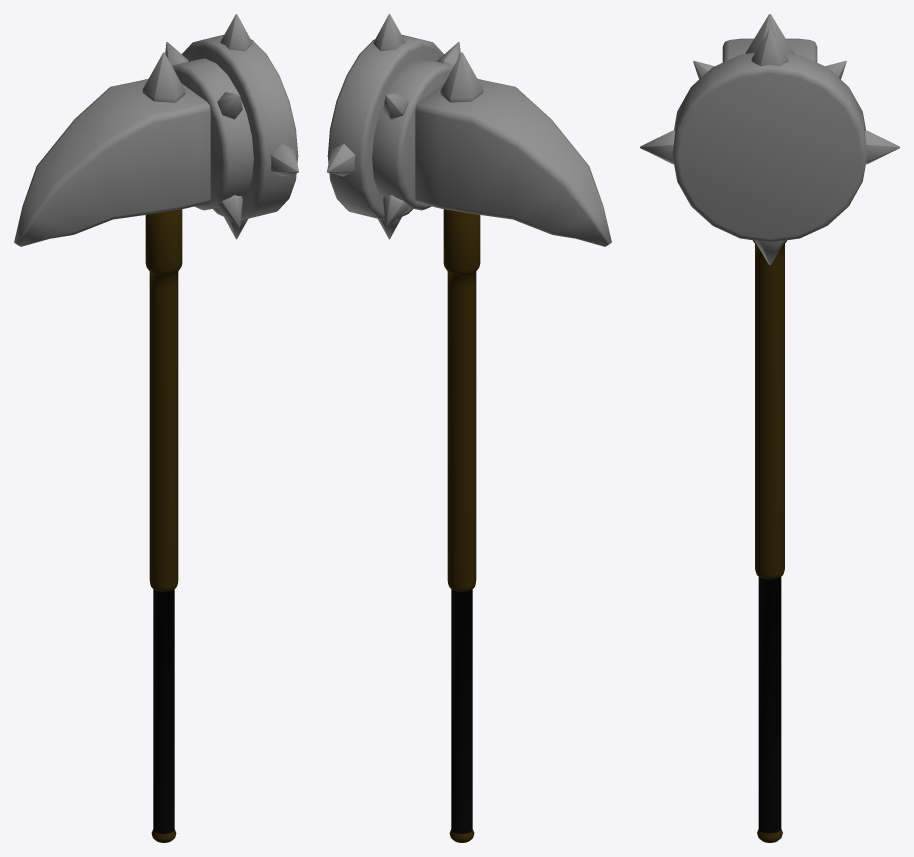
Rendered from TwoHand_Hammer_Iron.obj.
3 renders of one model, left to right at view 1: azimuth 30°, elevation 25°; view 2: azimuth 150°, elevation 25°; view 3: azimuth 270°, elevation 25°, orthographic. The views are drawn at different scales.
Parts seen in each view (by area): view 1: TwoHand_Hammer_Iron_Cube.001; view 2: TwoHand_Hammer_Iron_Cube.001; view 3: TwoHand_Hammer_Iron_Cube.001.
Boxes of the visible parts, x1,y1,x2,y2 form: TwoHand_Hammer_Iron_Cube.001: [14, 14, 298, 842]; TwoHand_Hammer_Iron_Cube.001: [327, 14, 611, 842]; TwoHand_Hammer_Iron_Cube.001: [640, 14, 899, 842].
Bounding box in the file's own units: 3.85 × 12.47 × 3.46.
